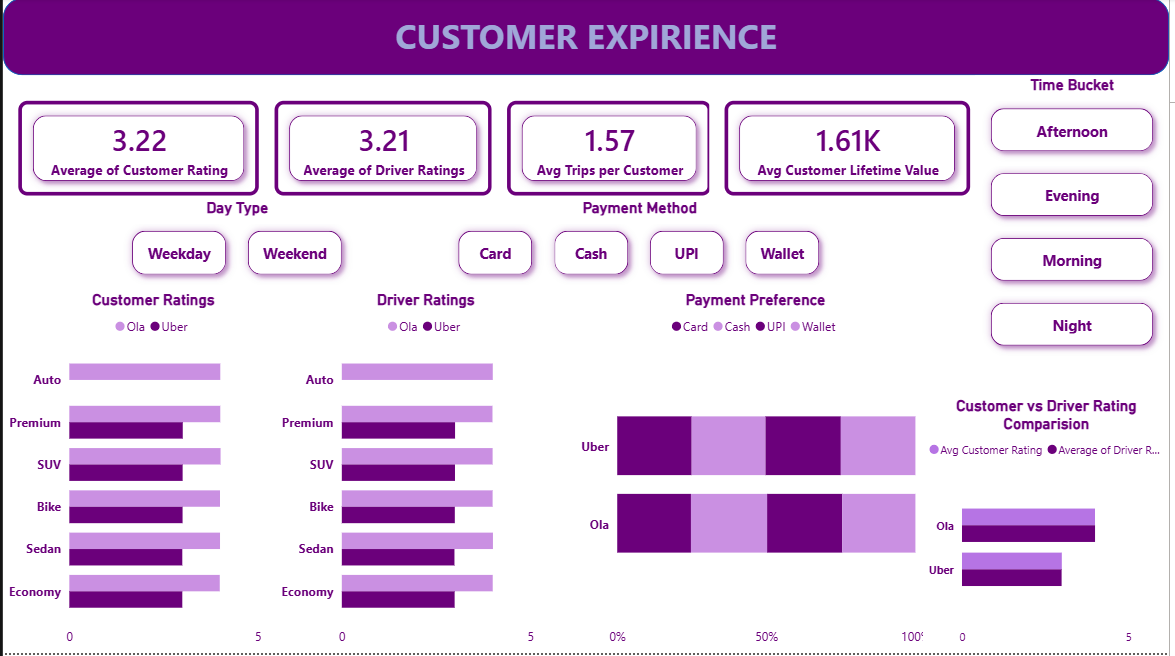

The page's visual inventory and layout, read from the dashboard file:
{"tool":"powerbi","page":{"name":"Page 4","canvas":[1280,720],"ordinal":3},"visuals":[{"type":"shape","box":[0,0,1280.2,84.9],"z":0},{"type":"textbox","box":[0,11.6,1280.2,64],"z":1000},{"type":"cardVisual","fields":{"Data":["Avg(Total_Data_Ola&Uber.Customer Rating)"]},"box":[0,96.5,298.8,138.4],"z":2000},{"type":"cardVisual","fields":{"Data":["Avg(Total_Data_Ola&Uber.Driver Ratings)"]},"box":[281.4,96.5,272.1,138.4],"z":3000},{"type":"cardVisual","fields":{"Data":["Total_Data_Ola&Uber.Avg Trips per Customer"]},"box":[536,96.5,258.1,138.4],"z":4000},{"type":"cardVisual","fields":{"Data":["Total_Data_Ola&Uber.Avg Customer Lifetime Value"]},"box":[775.6,96.5,303.5,138.4],"z":5000},{"type":"clusteredBarChart","title":"Customer Ratings","fields":{"Category":["Total_Data_Ola&Uber.Vehicle_Category"],"Y":["Total_Data_Ola&Uber.Avg Customer Rating"],"Series":["Total_Data_Ola&Uber.Company"]},"box":[0,320.9,330.2,398.8],"z":6000},{"type":"clusteredBarChart","title":"Driver Ratings","fields":{"Category":["Total_Data_Ola&Uber.Vehicle_Category"],"Series":["Total_Data_Ola&Uber.Company"],"Y":["Avg(Total_Data_Ola&Uber.Driver Ratings)"]},"box":[298.8,320.9,330.2,398.8],"z":7000},{"type":"hundredPercentStackedBarChart","title":"Payment Preference","fields":{"Category":["Total_Data_Ola&Uber.Company"],"Y":["CountNonNull(Total_Data_Ola&Uber.Booking ID)"],"Series":["Total_Data_Ola&Uber.Payment Method"]},"box":[629.1,320.9,395.3,398.8],"z":8000},{"type":"clusteredBarChart","title":"Customer vs Driver Rating Comparision","fields":{"Category":["Total_Data_Ola&Uber.Company"],"Y":["Total_Data_Ola&Uber.Avg Customer Rating","Avg(Total_Data_Ola&Uber.Driver Ratings)"]},"box":[1009.3,437.2,270.9,282.6],"z":9000},{"type":"advancedSlicerVisual","title":"Time Bucket","fields":{"Values":["Total_Data_Ola&Uber.Time_bucket"]},"box":[1067.4,84.9,212.8,316.3],"z":10000},{"type":"advancedSlicerVisual","title":"Day Type","fields":{"Values":["Total_Data_Ola&Uber.Day_Type"]},"box":[124.9,219.6,264.8,101.5],"z":11000},{"type":"advancedSlicerVisual","fields":{"Values":["Total_Data_Ola&Uber.Payment Method"]},"box":[483,219.6,432.2,101.5],"z":12000}]}

Visuals, with their boxes in screenshot pixels (x1, y1, x2, y2), scaled from the page's 1280x720 canvas onto the 1175x656 screenshot:
shape: <bbox>0, 0, 1174, 77</bbox>
textbox: <bbox>0, 11, 1174, 69</bbox>
cardVisual - Avg(Total_Data_Ola&Uber.Customer Rating): <bbox>0, 88, 274, 214</bbox>
cardVisual - Avg(Total_Data_Ola&Uber.Driver Ratings): <bbox>258, 88, 508, 214</bbox>
cardVisual - Total_Data_Ola&Uber.Avg Trips per Customer: <bbox>492, 88, 729, 214</bbox>
cardVisual - Total_Data_Ola&Uber.Avg Customer Lifetime Value: <bbox>712, 88, 991, 214</bbox>
"Customer Ratings" clusteredBarChart: <bbox>0, 292, 303, 655</bbox>
"Driver Ratings" clusteredBarChart: <bbox>274, 292, 577, 655</bbox>
"Payment Preference" hundredPercentStackedBarChart: <bbox>577, 292, 940, 655</bbox>
"Customer vs Driver Rating Comparision" clusteredBarChart: <bbox>927, 398, 1174, 655</bbox>
"Time Bucket" advancedSlicerVisual: <bbox>980, 77, 1174, 366</bbox>
"Day Type" advancedSlicerVisual: <bbox>115, 200, 358, 293</bbox>
advancedSlicerVisual - Total_Data_Ola&Uber.Payment Method: <bbox>443, 200, 840, 293</bbox>
